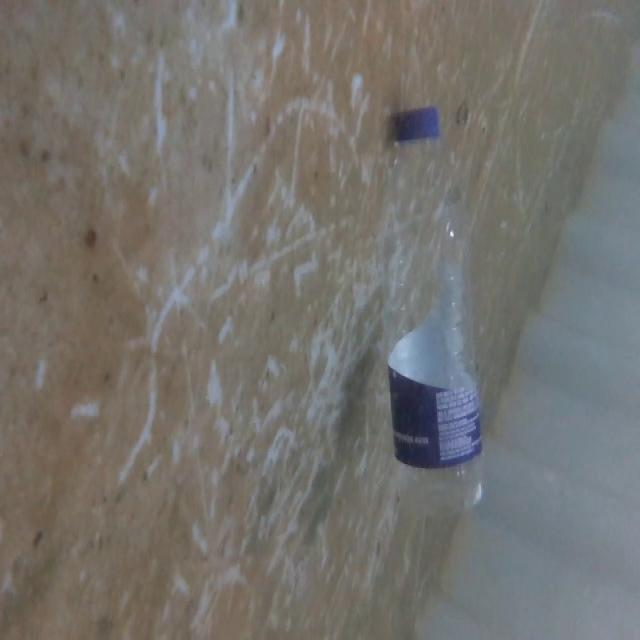plastic bottle: (368, 95, 498, 559)
